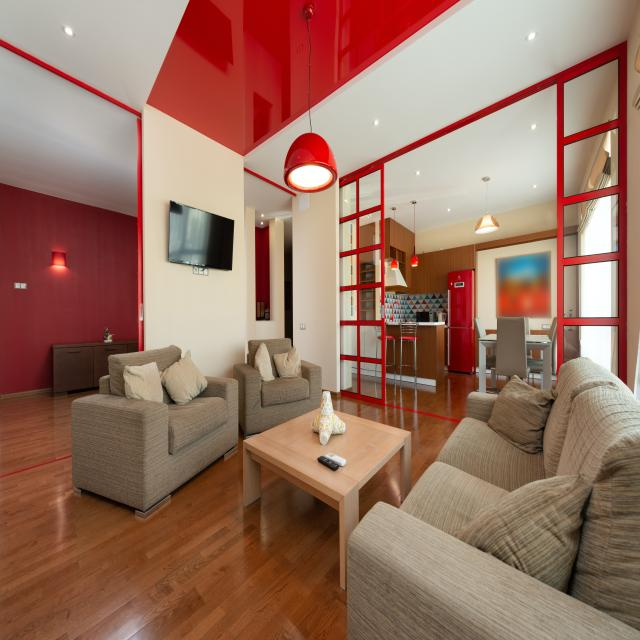floor: (0, 385, 349, 640), (332, 395, 459, 490), (385, 370, 479, 421), (359, 448, 401, 523), (361, 374, 382, 399), (349, 373, 358, 393), (498, 375, 506, 389), (534, 378, 541, 389), (486, 373, 491, 387), (552, 380, 557, 390), (529, 378, 533, 387), (523, 378, 528, 385), (496, 375, 497, 388)
wall: (0, 184, 138, 399), (143, 103, 245, 378), (411, 200, 557, 318), (292, 182, 337, 400), (477, 239, 557, 337), (246, 207, 285, 354), (627, 3, 640, 395), (168, 200, 235, 276), (336, 177, 341, 400), (564, 265, 579, 318), (269, 218, 276, 321), (394, 220, 414, 256), (262, 225, 270, 309), (256, 226, 262, 321), (564, 204, 578, 234), (564, 235, 577, 258), (406, 253, 413, 288), (390, 218, 394, 247), (255, 226, 256, 321)
